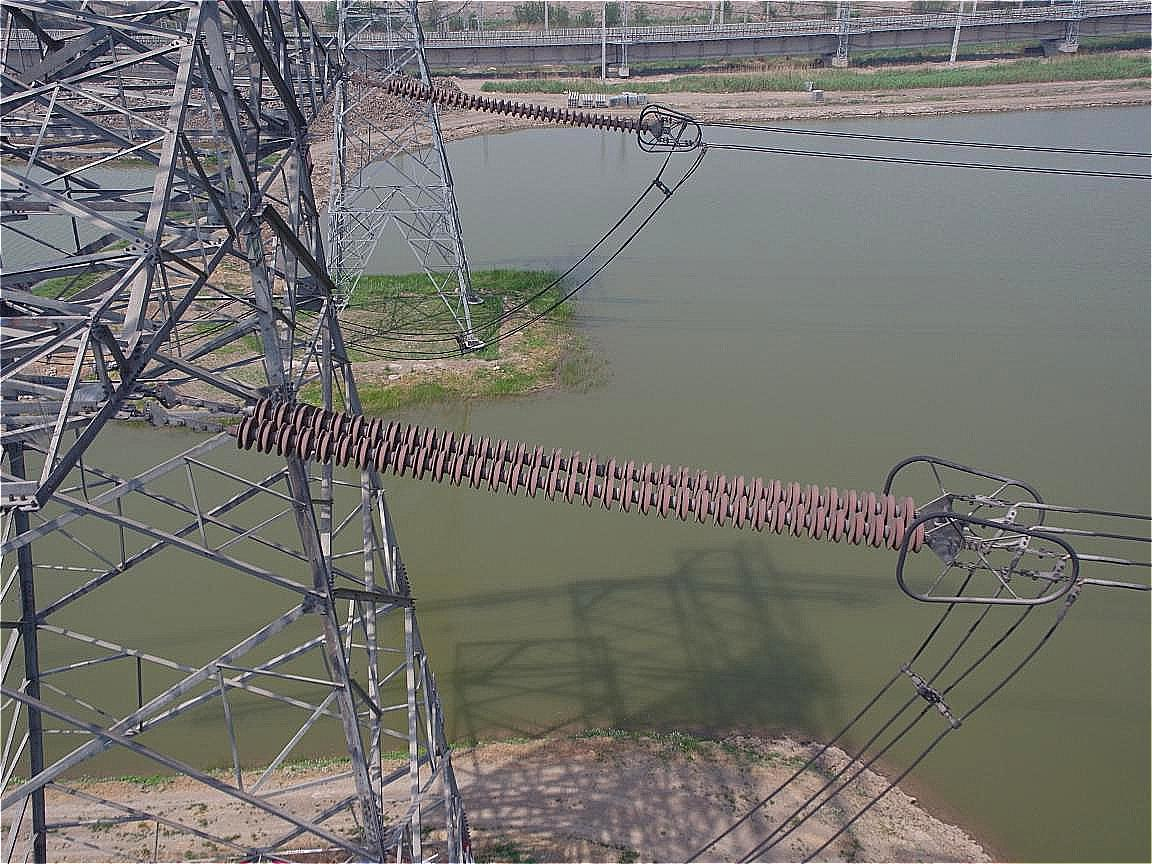insultor1: (388, 76, 649, 136)
insultor2: (234, 396, 924, 553)
